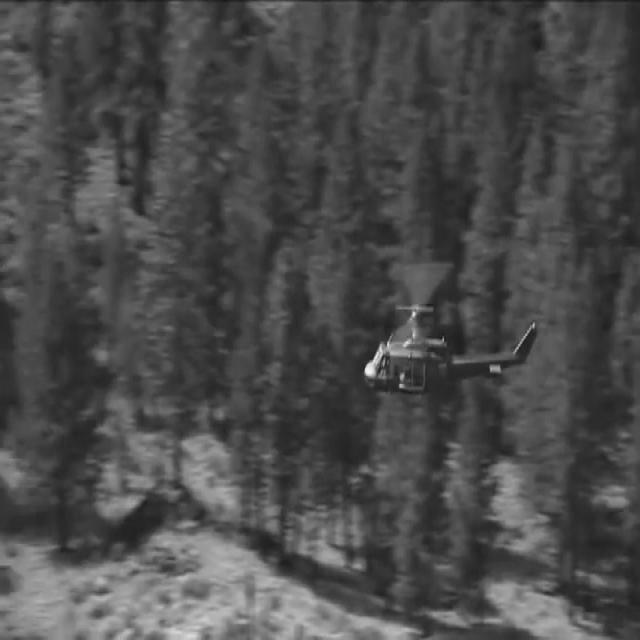helikopter: (353, 270, 556, 444)
